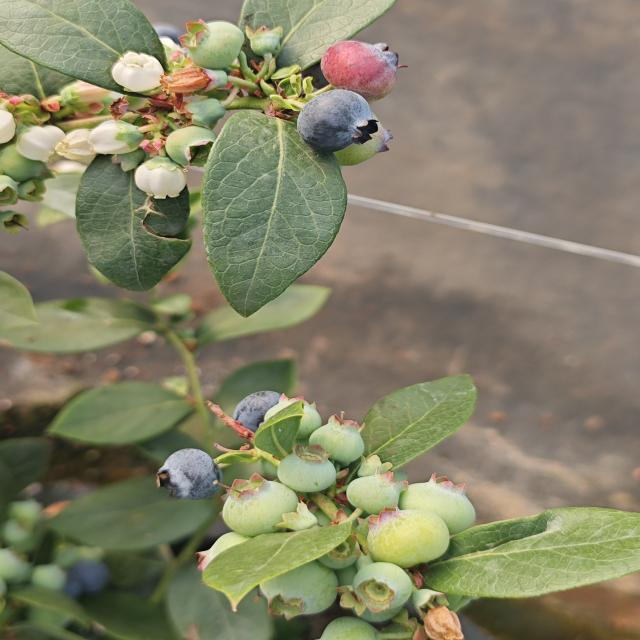ripe: (291, 75, 370, 149), (147, 445, 224, 501), (228, 388, 296, 440), (58, 552, 119, 602)
